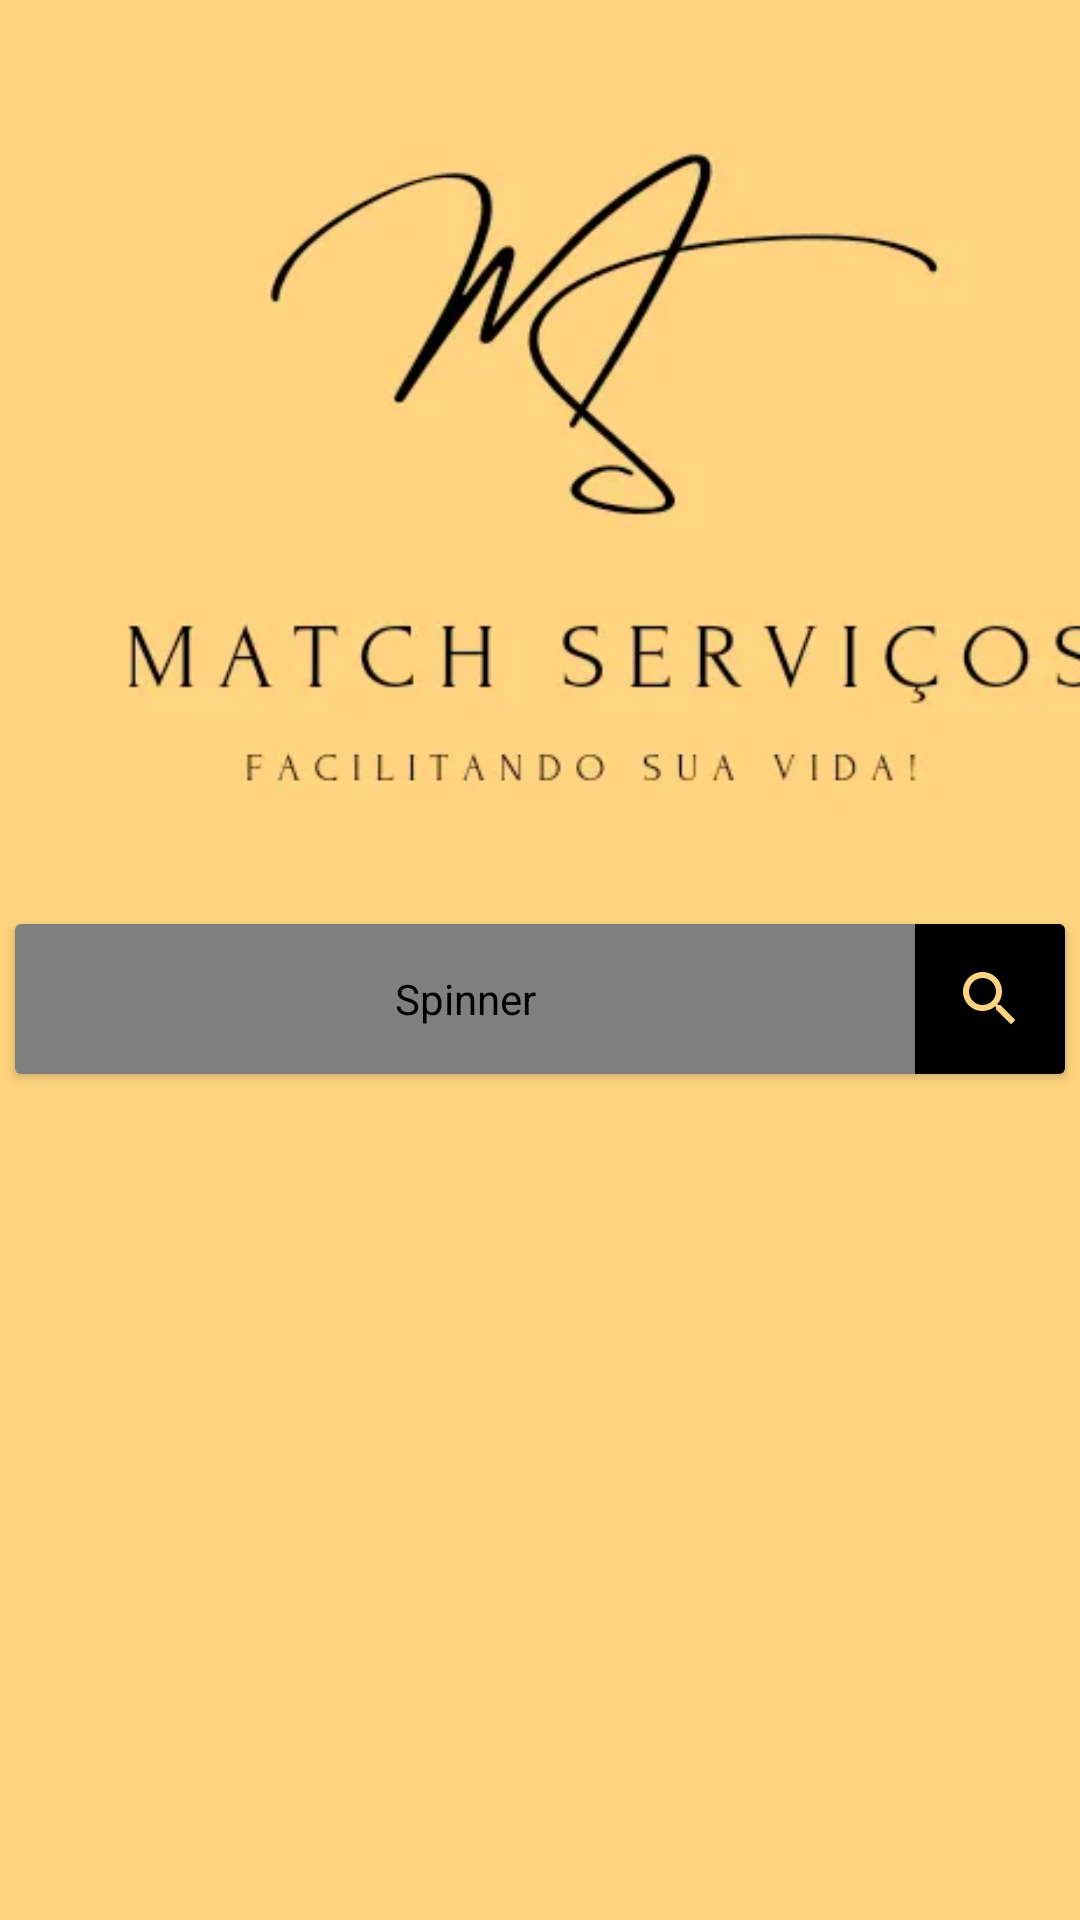

Point at icon controls on the screen. Image size 1080 x 1920, points as (x,y).
search: (990,999)
